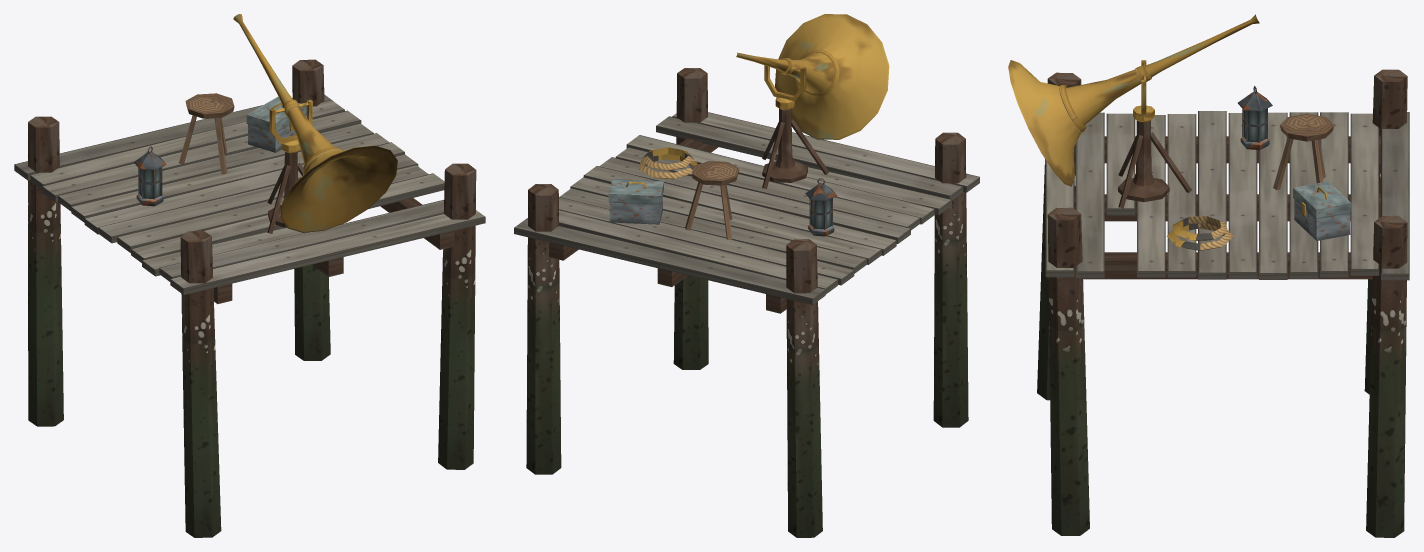
Rendered from listening-post.glb.
The picture shows the model from 3 angles, left to right: view 1: azimuth 30°, elevation 25°; view 2: azimuth 150°, elevation 25°; view 3: azimuth 270°, elevation 25°; orthographic projection. The views are drawn at different scales.
Visible parts, largest first — view 1: listening-post, LogBox; view 2: listening-post, LogBox; view 3: listening-post, LogBox.
Part boxes in pixels (bbox=[...]): listening-post: bbox=[14, 14, 485, 537]; LogBox: bbox=[246, 96, 306, 152]; listening-post: bbox=[514, 14, 979, 537]; LogBox: bbox=[608, 179, 663, 224]; listening-post: bbox=[1008, 14, 1409, 537]; LogBox: bbox=[1293, 181, 1351, 240].
Size of the model in its own units: 2.49 by 3.23 by 2.63.
Materials: 1 (1 with a texture image).
